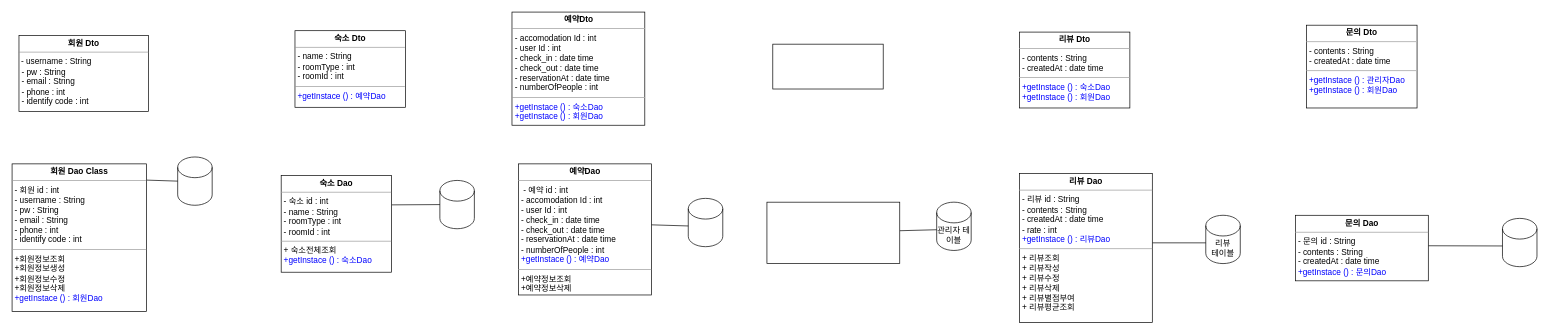
The diagram is 1549 pixels wide and 335 high, and some of its shapes have lost their labels. Here are the shapes that lost their labels. From the top down, the centre of each, then its label:
the point at 827,66: 관리자 Dto +getInstace () : 회원Dao + getInstace () : 문의Dao
the point at 194,180: 회원 테이블
the point at 456,204: 숙소 테이블
the point at 705,222: 예약 테이블
the point at 833,232: 관리자 Dao - 관리자 id : String + 전체권한부여 +getInstace () : 관리자Dao
the point at 1519,242: 문의 테이블
